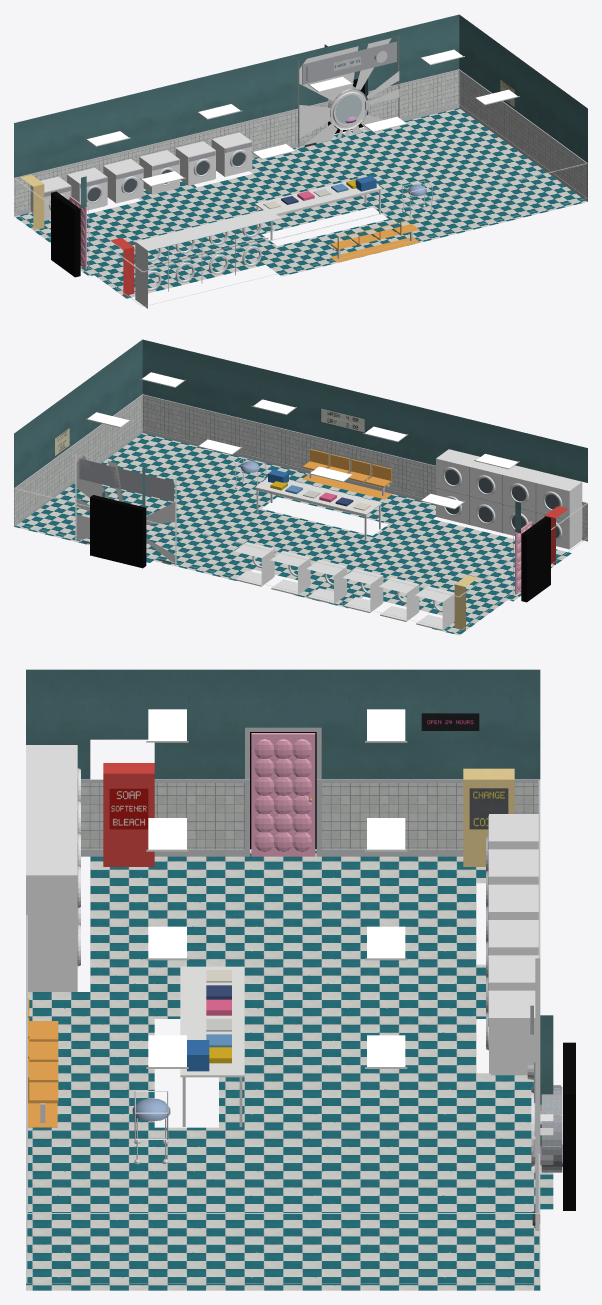
Rendered from rdwe_laundromat.glb.
The picture shows the model from 3 angles, top to bottom: view 1: azimuth 30°, elevation 25°; view 2: azimuth 150°, elevation 25°; view 3: azimuth 270°, elevation 25°; orthographic projection. The views are drawn at different scales.
Visible parts, largest first — view 1: Vinyl_Checker, Paint_Cyan, Washer_Enamel, Tile_White, Trim_Steel, Panel_Grey, Lamp_Emit, Chrome, Void_Black, Plastic_Orange, Laminate_White, DoorLeaf_drum (+7 smaller); view 2: Vinyl_Checker, Paint_Cyan, Washer_Enamel, Tile_White, Void_Black, Trim_Steel, Lamp_Emit, Panel_Grey, Plastic_Orange, Chrome, Laminate_White, Glass_Dark (+6 smaller); view 3: Vinyl_Checker, Paint_Cyan, Washer_Enamel, Tile_White, Lamp_Emit, DoorLeaf_lockers, Trim_Steel, Laminate_White, Signs_Laundry, Paint_Red, Plastic_Orange, Paint_Palette (+5 smaller).
Boxes of the visible parts, x1,y1,x2,y2 form: Vinyl_Checker: (14, 108, 587, 298); Paint_Cyan: (14, 14, 587, 208); Washer_Enamel: (30, 35, 399, 308); Tile_White: (14, 71, 587, 272); Trim_Steel: (14, 69, 587, 306); Panel_Grey: (44, 41, 396, 291); Lamp_Emit: (87, 49, 517, 185); Chrome: (49, 51, 432, 290); Void_Black: (51, 79, 364, 277); Plastic_Orange: (330, 217, 420, 262); Laminate_White: (255, 176, 382, 214); DoorLeaf_drum: (330, 87, 368, 129); Vinyl_Checker: (14, 433, 571, 635); Paint_Cyan: (14, 339, 587, 533); Washer_Enamel: (75, 449, 582, 630); Tile_White: (14, 396, 587, 597); Void_Black: (90, 495, 550, 602); Trim_Steel: (14, 394, 587, 631); Lamp_Emit: (87, 372, 517, 508); Panel_Grey: (79, 458, 569, 533); Plastic_Orange: (302, 449, 391, 499); Chrome: (235, 457, 562, 612); Laminate_White: (255, 478, 382, 515); Glass_Dark: (445, 469, 559, 538); Vinyl_Checker: (26, 850, 553, 1290); Paint_Cyan: (26, 669, 553, 1145); Washer_Enamel: (26, 745, 553, 1230); Tile_White: (26, 783, 540, 1214); Lamp_Emit: (148, 709, 405, 1066); DoorLeaf_lockers: (251, 733, 315, 856); Trim_Steel: (26, 727, 540, 1283); Laminate_White: (180, 966, 244, 1077); Signs_Laundry: (109, 713, 508, 829); Paint_Red: (103, 763, 154, 866); Plastic_Orange: (28, 998, 58, 1127); Paint_Palette: (187, 970, 231, 1071).
Size of the model in its own units: 16.55 by 3.25 by 8.55.
25 materials, 8 textured.
